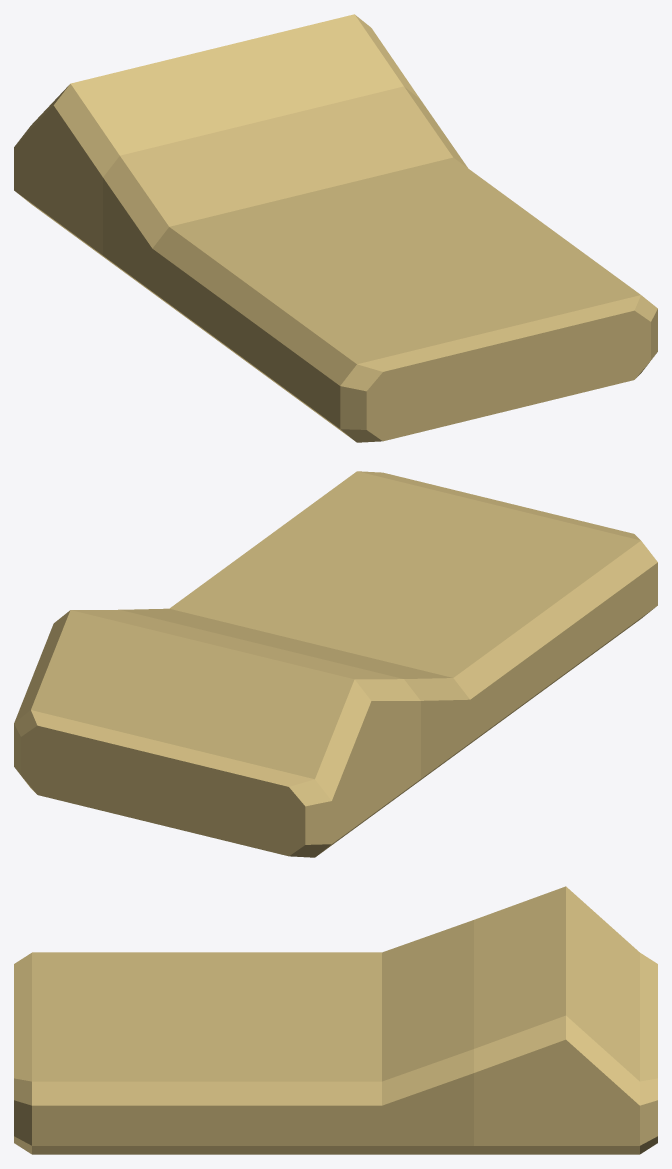
Rendered from tallow_heavy_a.glb.
The picture shows the model from 3 angles, top to bottom: view 1: azimuth 30°, elevation 25°; view 2: azimuth 150°, elevation 25°; view 3: azimuth 270°, elevation 25°; orthographic projection. The views are drawn at different scales.
Visible parts, largest first — view 1: tallow_heavy_a; view 2: tallow_heavy_a; view 3: tallow_heavy_a.
Boxes of the visible parts, x1=… form: tallow_heavy_a: x1=14, y1=14, x2=657, y2=442; tallow_heavy_a: x1=14, y1=471, x2=657, y2=857; tallow_heavy_a: x1=14, y1=886, x2=657, y2=1154.
Size of the model in its own units: 4.3 by 1.93 by 8.1.
